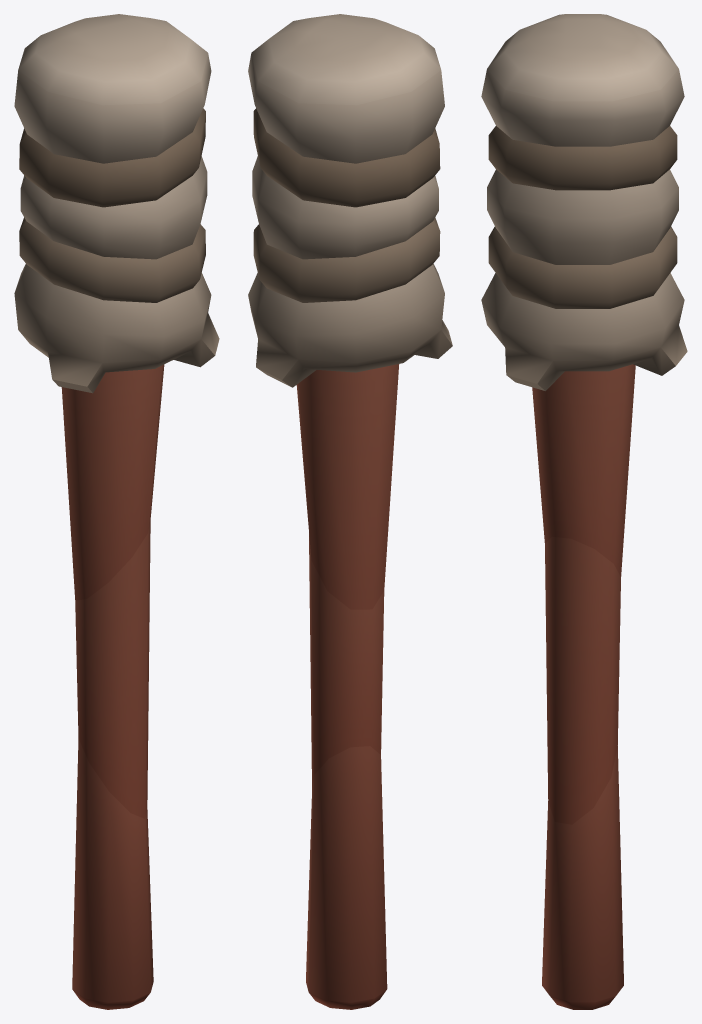
The model's file is torch_A.glb.
3 views of the same model, side by side, from view 1: azimuth 30°, elevation 25°; view 2: azimuth 150°, elevation 25°; view 3: azimuth 270°, elevation 25° (orthographic).
Visible parts, largest first — view 1: torch; view 2: torch; view 3: torch.
Part boxes in pixels (box(x1,y1,x2,y2)): torch: box(14, 14, 219, 1009); torch: box(248, 14, 452, 1009); torch: box(481, 14, 687, 1009).
Bounding box in the file's own units: 0.2109 × 1.17 × 0.2254.
1 material, 1 textured.
